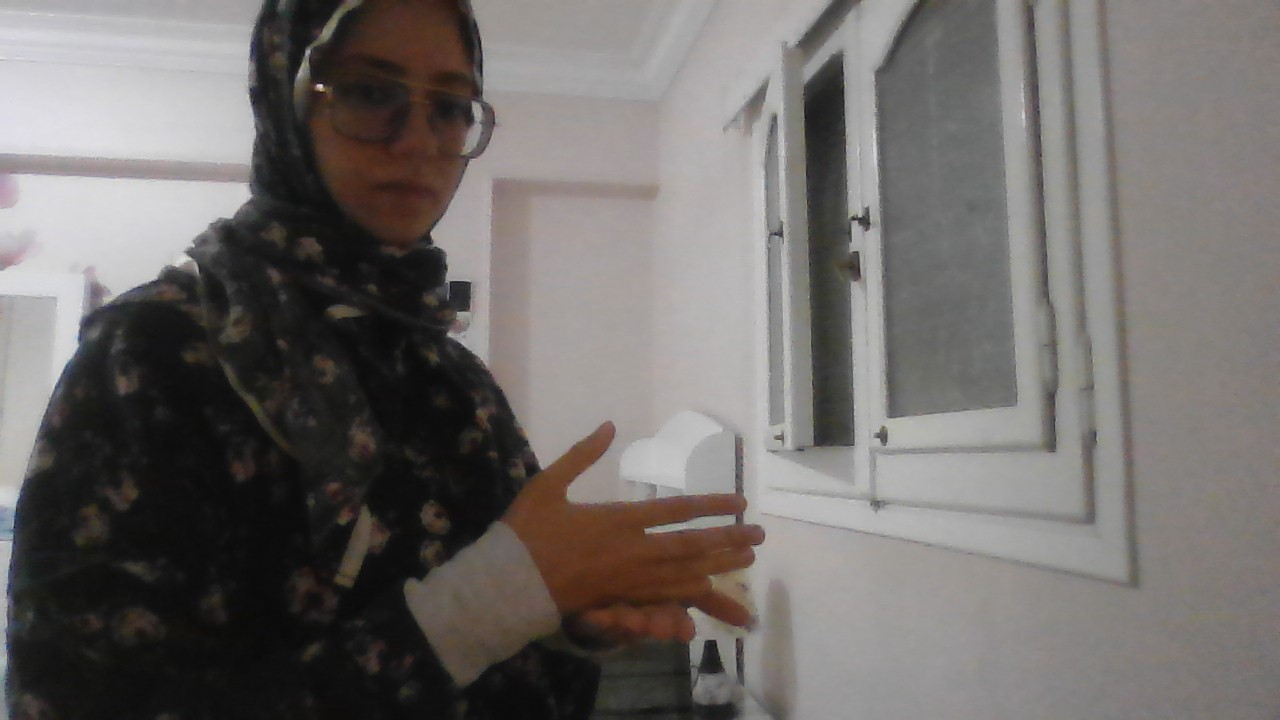stop: (505, 413, 769, 649)
